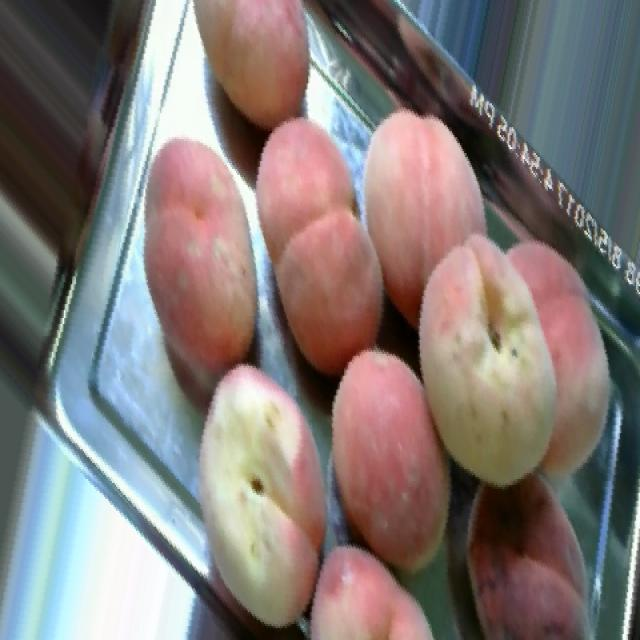Fruit: (393, 220, 583, 510), (164, 340, 328, 640), (251, 100, 417, 393), (105, 114, 258, 412), (326, 330, 486, 600), (352, 91, 511, 326), (432, 455, 612, 640), (164, 0, 335, 147), (280, 522, 458, 640)
